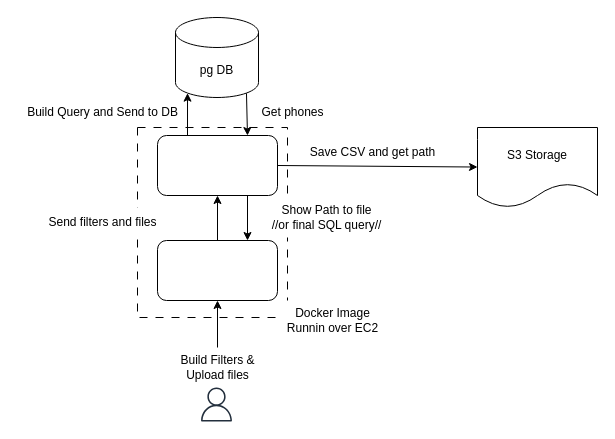
Some shapes in this 615 by 439 pixel diagram are drawn without their labels. The centre of each missing label's shape, as x and y in pixels:
Backend API FastAPI based: point 217,165
GUI Streamlit based: point 217,270
